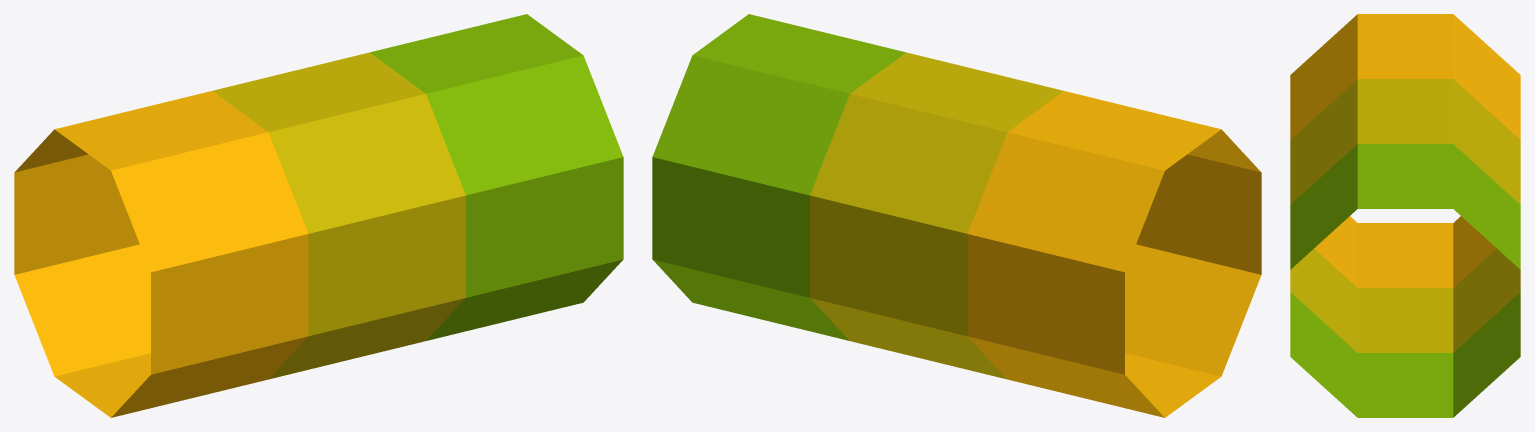
The model's file is fpe_pipe_straight_smooth_label_band.dae.
3 views of the same model, side by side, from view 1: azimuth 30°, elevation 25°; view 2: azimuth 150°, elevation 25°; view 3: azimuth 270°, elevation 25° (orthographic). The views are drawn at different scales.
Visible parts, largest first — view 1: pipe_straight_smooth_label_band; view 2: pipe_straight_smooth_label_band; view 3: pipe_straight_smooth_label_band.
Boxes of the visible parts, box(x1,y1,x2,y2) form: pipe_straight_smooth_label_band: box(14, 14, 623, 417); pipe_straight_smooth_label_band: box(652, 14, 1261, 417); pipe_straight_smooth_label_band: box(1290, 14, 1520, 417).
Size of the model in its own units: 0.25 by 0.125 by 0.125.
